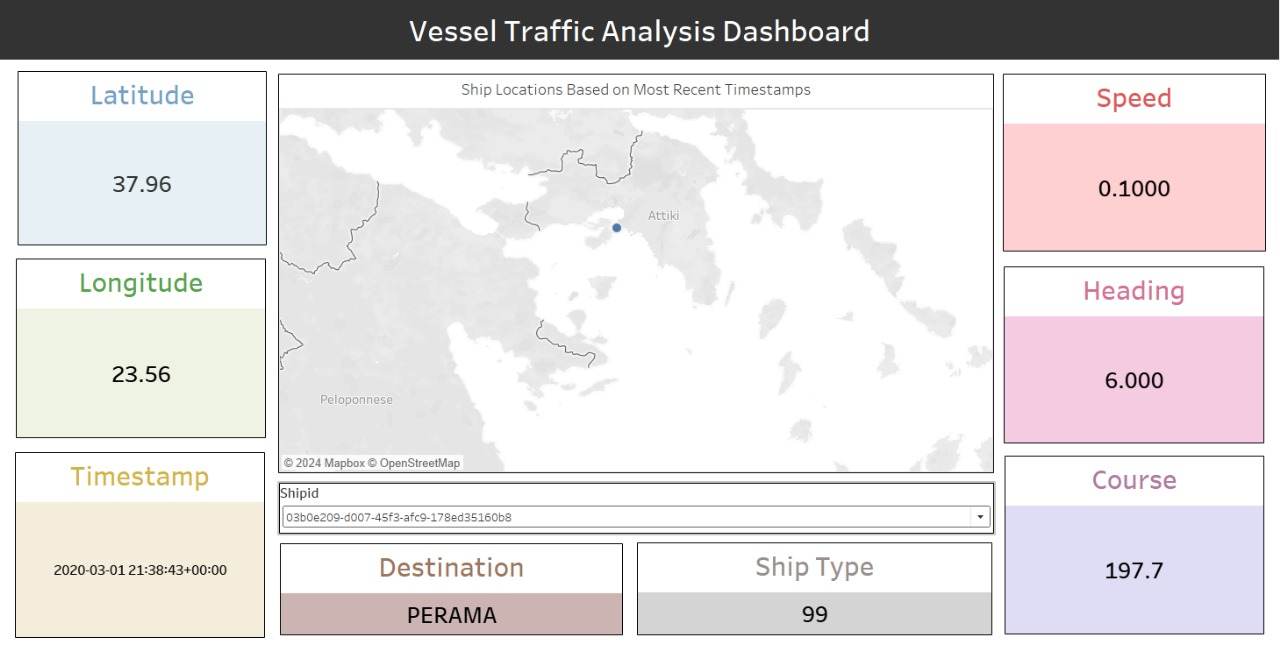

The page's visual inventory and layout, read from the dashboard file:
{"tool":"tableau","page":{"name":"Dashboard 1","canvas":[1460,750],"ordinal":0},"visuals":[{"type":"text","box":[1,3,1458,69]},{"type":"worksheet","title":"Lat","mark":"Automatic","box":[21,85,284,199]},{"type":"worksheet","title":"Map","mark":"Automatic","rows":["lat"],"cols":["lon"],"box":[318,88,816,456]},{"type":"worksheet","title":"Speed","mark":"Automatic","box":[1144,88,300,203]},{"type":"worksheet","title":"Lon","mark":"Automatic","box":[19,306,285,198]},{"type":"worksheet","title":"Heading","mark":"Automatic","box":[1145,308,297,202]},{"type":"worksheet","title":"Course","mark":"Automatic","box":[1146,524,296,204]},{"type":"worksheet","title":"Timestamp","mark":"Automatic","box":[18,529,285,203]},{"type":"filter","title":"Map","param":"[federated.0ciur1x10ubqkp182gcpe1c4abhu].[none:shipid:nk]","box":[319,555,815,58]},{"type":"worksheet","title":"Ship type","mark":"Automatic","box":[727,623,405,106]},{"type":"worksheet","title":"Destination","mark":"Automatic","box":[320,624,391,105]}]}

Visuals, with their boxes in screenshot pixels (x1, y1, x2, y2), scaled from the page's 1460x750 canvas onto the 1280x651 screenshot:
text: <box>1,3,1279,62</box>
"Lat" worksheet: <box>18,74,267,247</box>
"Map" worksheet: <box>279,76,994,472</box>
"Speed" worksheet: <box>1003,76,1266,253</box>
"Lon" worksheet: <box>17,266,267,437</box>
"Heading" worksheet: <box>1004,267,1264,443</box>
"Course" worksheet: <box>1005,455,1264,632</box>
"Timestamp" worksheet: <box>16,459,266,635</box>
"Map" filter: <box>280,482,994,532</box>
"Ship type" worksheet: <box>637,541,992,633</box>
"Destination" worksheet: <box>281,542,623,633</box>
